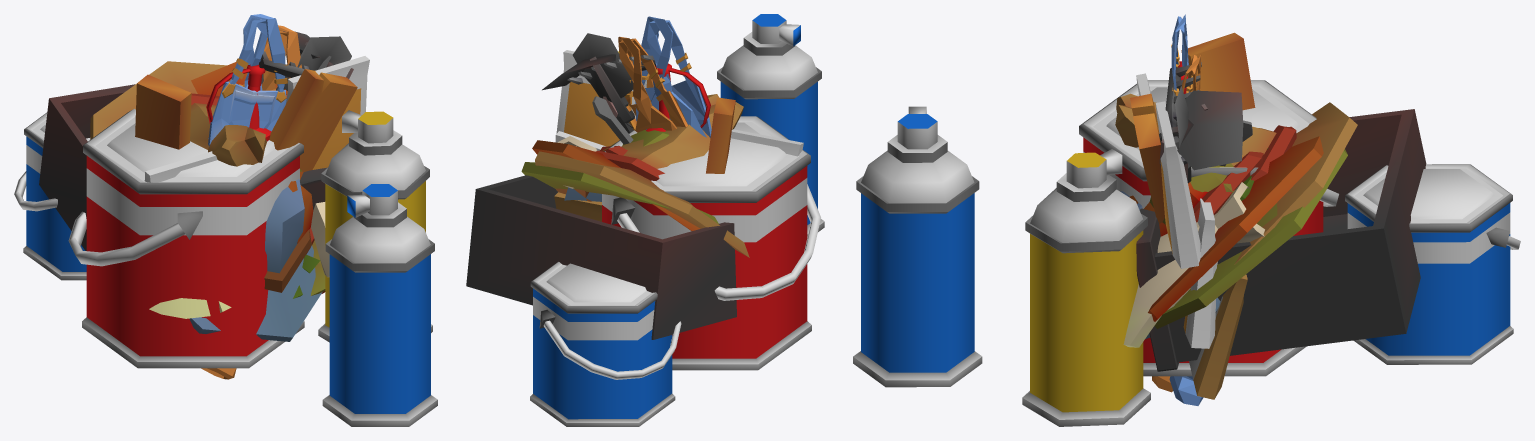
File: tools_inspect-transformed.glb
The picture shows the model from 3 angles, left to right: view 1: azimuth 30°, elevation 25°; view 2: azimuth 150°, elevation 25°; view 3: azimuth 270°, elevation 25°; orthographic projection. The views are drawn at different scales.
Visible parts, largest first — view 1: paint_can_red, wood_scraps, drawer, blue_hat, gardening_and_sunglasses, blue_overalls, seed_packets, gardening_gloves, red_hat, shovel, orange_overalls, wood_glue (+2 smaller); view 2: paint_can_red, drawer, gardening_and_sunglasses, seed_packets, blue_overalls, orange_overalls, green_hat, shovel, wood_scraps, red_hat, hoe, slotted_screwdriver (+3 smaller); view 3: paint_can_red, drawer, seed_packets, red_hat, gardening_and_sunglasses, wood_scraps, green_hat, hoe, gardening_gloves, blue_overalls, rake, orange_overalls.
Boxes of the visible parts, bbox=[...] form: paint_can_red: bbox=[14, 108, 437, 426]; wood_scraps: bbox=[135, 69, 357, 172]; drawer: bbox=[39, 77, 327, 250]; blue_hat: bbox=[189, 179, 322, 341]; gardening_and_sunglasses: bbox=[90, 61, 275, 166]; blue_overalls: bbox=[208, 14, 287, 146]; seed_packets: bbox=[144, 56, 369, 182]; gardening_gloves: bbox=[149, 202, 329, 318]; red_hat: bbox=[191, 62, 325, 293]; shovel: bbox=[284, 36, 351, 90]; orange_overalls: bbox=[201, 25, 301, 379]; wood_glue: bbox=[206, 64, 271, 141]; paint_can_red: bbox=[530, 14, 824, 426]; drawer: bbox=[466, 175, 736, 339]; gardening_and_sunglasses: bbox=[535, 94, 749, 257]; seed_packets: bbox=[554, 50, 803, 221]; blue_overalls: bbox=[635, 16, 711, 137]; orange_overalls: bbox=[618, 36, 688, 132]; green_hat: bbox=[521, 130, 718, 223]; shovel: bbox=[572, 33, 636, 130]; wood_scraps: bbox=[632, 55, 735, 173]; red_hat: bbox=[532, 140, 700, 230]; hoe: bbox=[542, 54, 633, 133]; slotted_screwdriver: bbox=[592, 96, 633, 144]; paint_can_red: bbox=[853, 80, 1520, 426]; drawer: bbox=[1136, 109, 1426, 371]; seed_packets: bbox=[1136, 73, 1247, 399]; red_hat: bbox=[1129, 136, 1323, 321]; gardening_and_sunglasses: bbox=[1115, 93, 1357, 264]; wood_scraps: bbox=[1130, 32, 1255, 223]; green_hat: bbox=[1149, 148, 1347, 328]; hoe: bbox=[1159, 90, 1243, 183]; gardening_gloves: bbox=[1123, 182, 1264, 347]; blue_overalls: bbox=[1169, 14, 1203, 405]; rake: bbox=[1165, 62, 1201, 164]; orange_overalls: bbox=[1152, 55, 1201, 392].
Size of the model in its own units: 0.2706 by 0.3215 by 0.4934.
